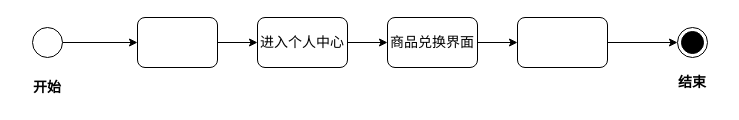
The diagram is 739 pixels wide and 120 high, and some of its shapes have lost their labels. Here are the shapes that lost their labels. From the top down, the box of each, then its label:
(136, 16, 218, 68): 用户登录系统
(516, 16, 608, 68): 选择商品填写信息并兑换
